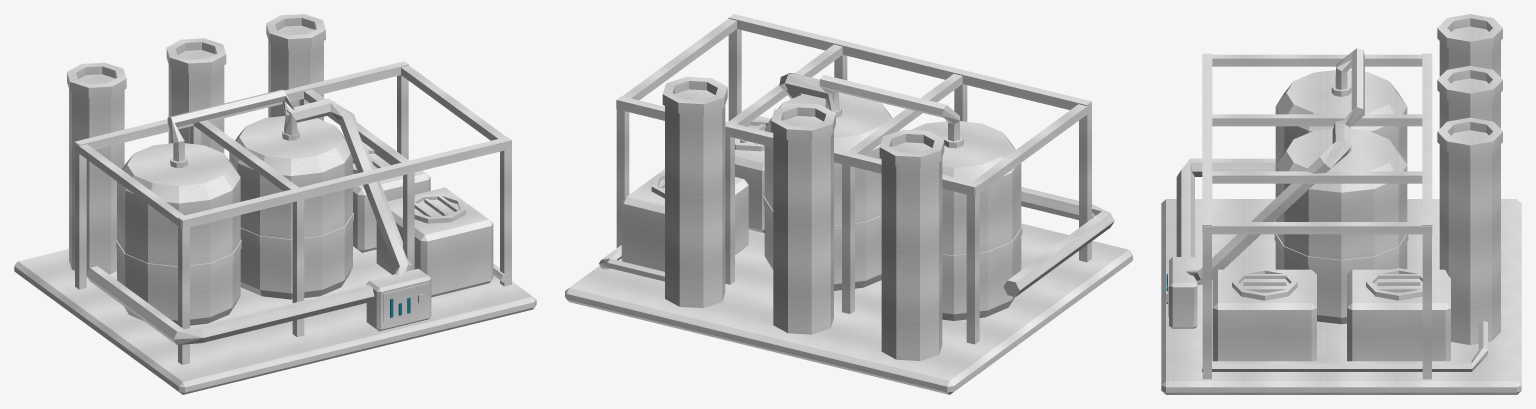
The model's file is smoke_spewer.obj.
3 renders of one model, left to right at view 1: azimuth 30°, elevation 25°; view 2: azimuth 150°, elevation 25°; view 3: azimuth 270°, elevation 25°, orthographic. The views are drawn at different scales.
Visible parts, largest first — view 1: smoke_spewer; view 2: smoke_spewer; view 3: smoke_spewer.
Boxes of the visible parts, bbox=[...] form: smoke_spewer: bbox=[14, 14, 536, 394]; smoke_spewer: bbox=[565, 14, 1132, 394]; smoke_spewer: bbox=[1161, 14, 1521, 394].
Bounding box in the file's own units: 5.74 × 3.09 × 4.7.
